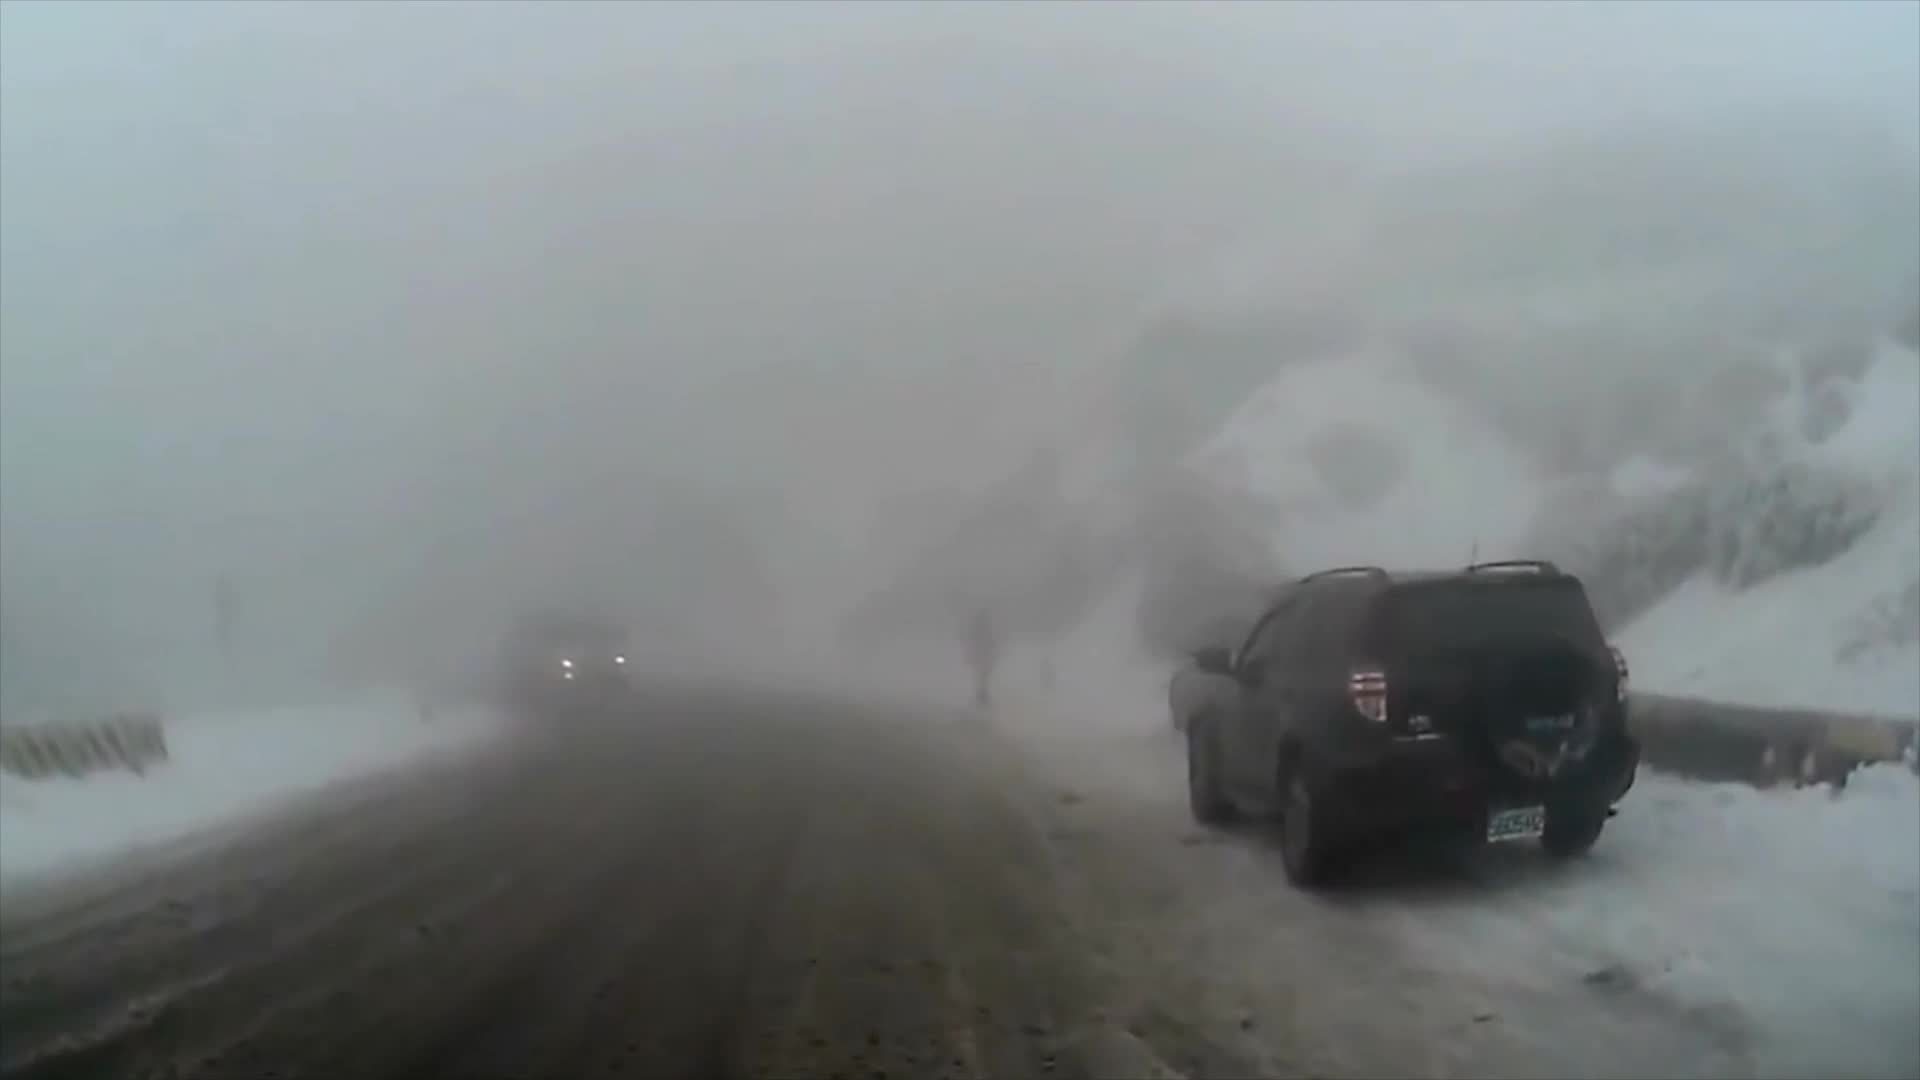vehicle: (1185, 553, 1636, 889), (498, 621, 638, 715)
